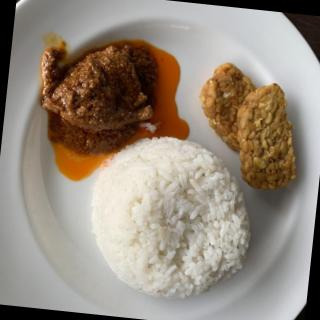Nasi: (83, 132, 262, 308)
